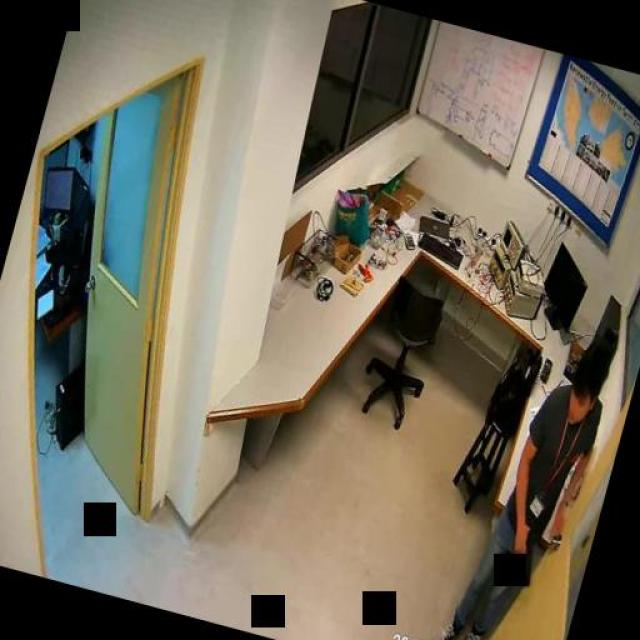gun: (502, 522, 544, 588)
